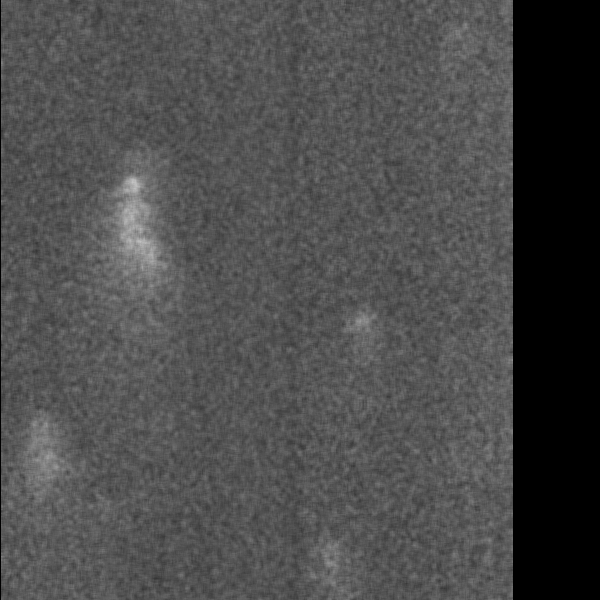spark: (98, 225, 175, 380), (29, 403, 64, 552), (114, 168, 151, 233), (344, 305, 378, 354)
